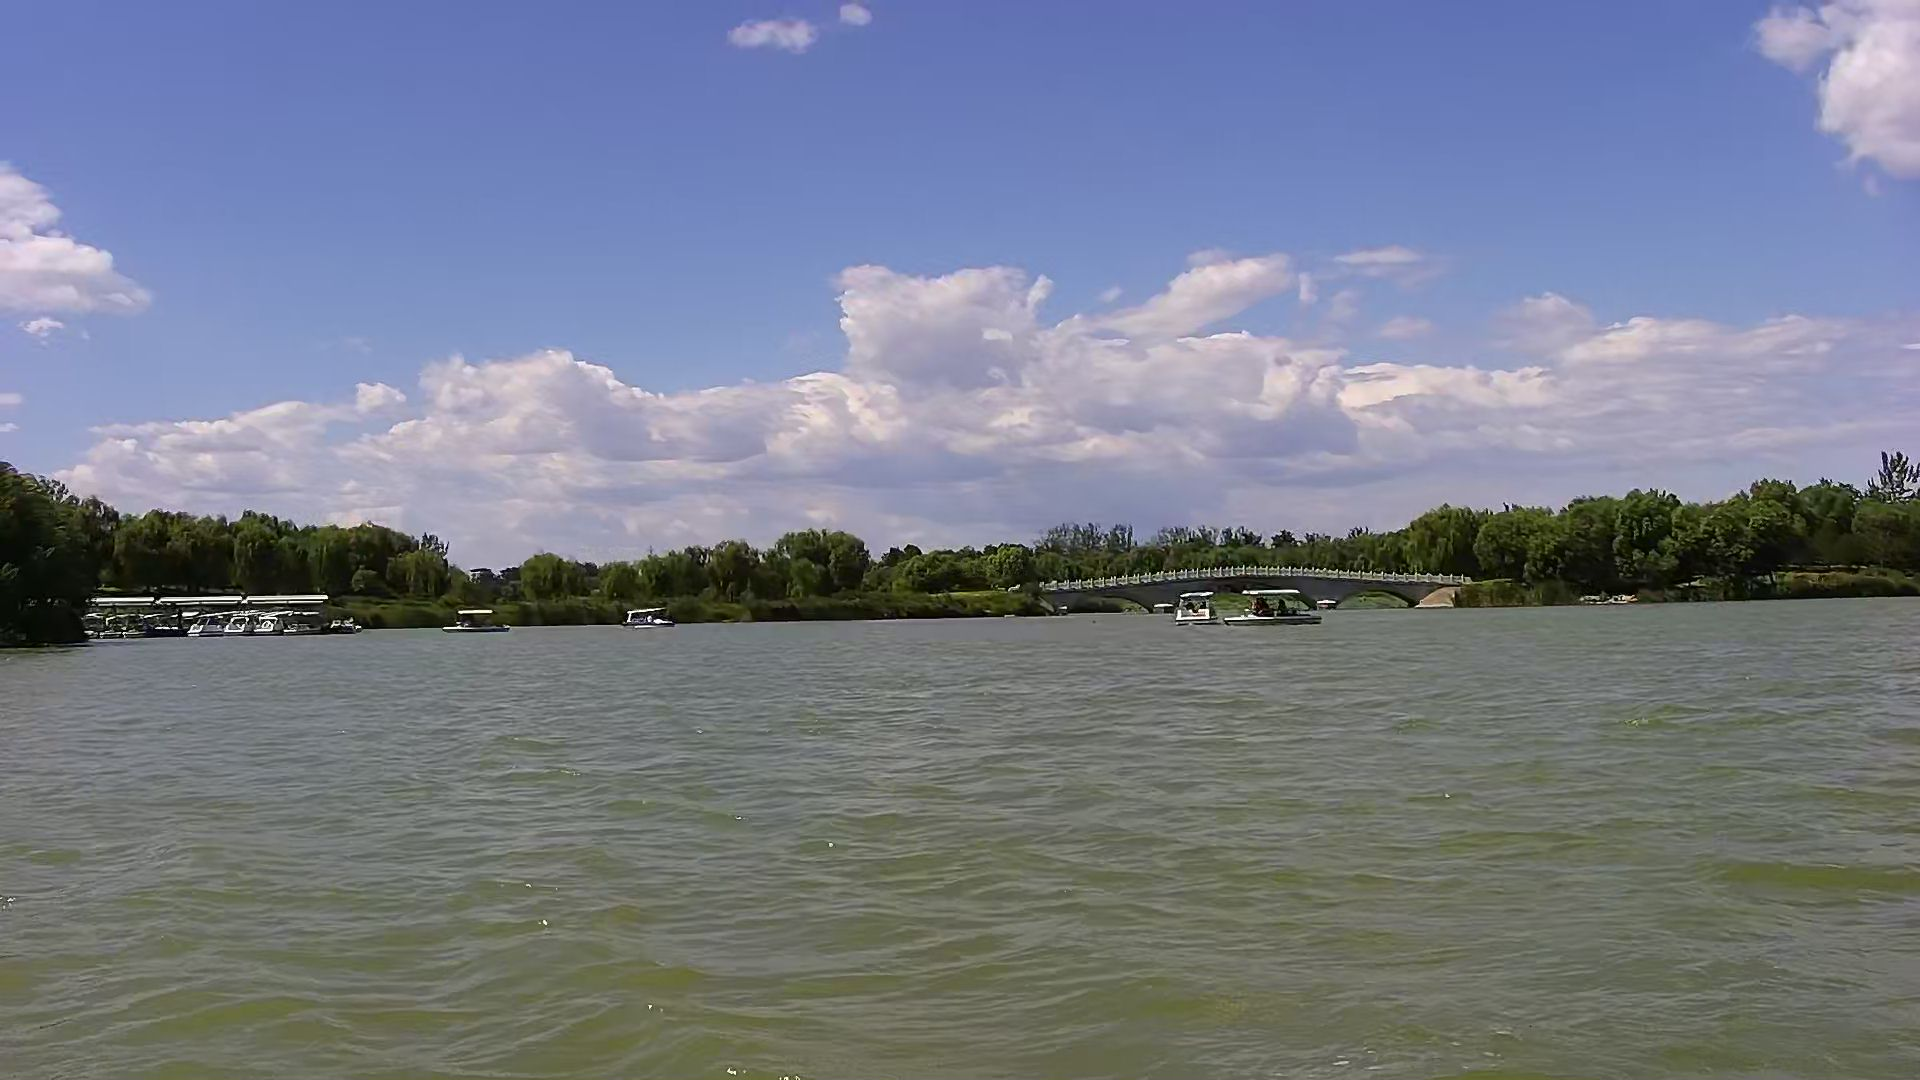boat: (1225, 585, 1338, 630), (435, 593, 525, 636), (258, 604, 328, 646), (615, 593, 679, 632), (1174, 582, 1217, 638), (120, 612, 185, 637), (324, 607, 365, 642), (183, 611, 223, 644), (222, 611, 262, 640)
bridge: (1035, 562, 1484, 611)
